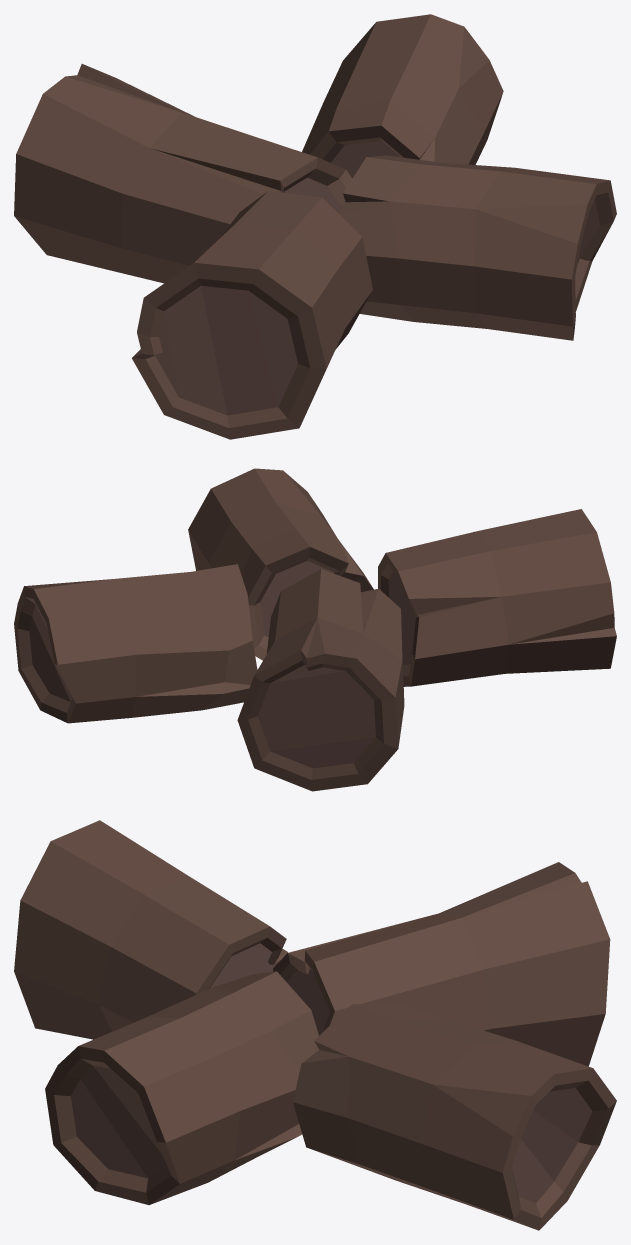
The model's file is Bonfire.glb.
The picture shows the model from 3 angles, top to bottom: view 1: azimuth 30°, elevation 25°; view 2: azimuth 150°, elevation 25°; view 3: azimuth 270°, elevation 25°; orthographic projection. The views are drawn at different scales.
Visible parts, largest first — view 1: Wood, LightWood; view 2: Wood, LightWood; view 3: Wood, LightWood.
Boxes of the visible parts, <box> form: Wood: <box>14,14,616,439</box>; LightWood: <box>155,141,599,415</box>; Wood: <box>14,468,616,791</box>; LightWood: <box>29,561,415,768</box>; Wood: <box>14,820,616,1230</box>; LightWood: <box>71,943,592,1203</box>.
Bounding box in the file's own units: 2.18 × 0.6757 × 1.98.
